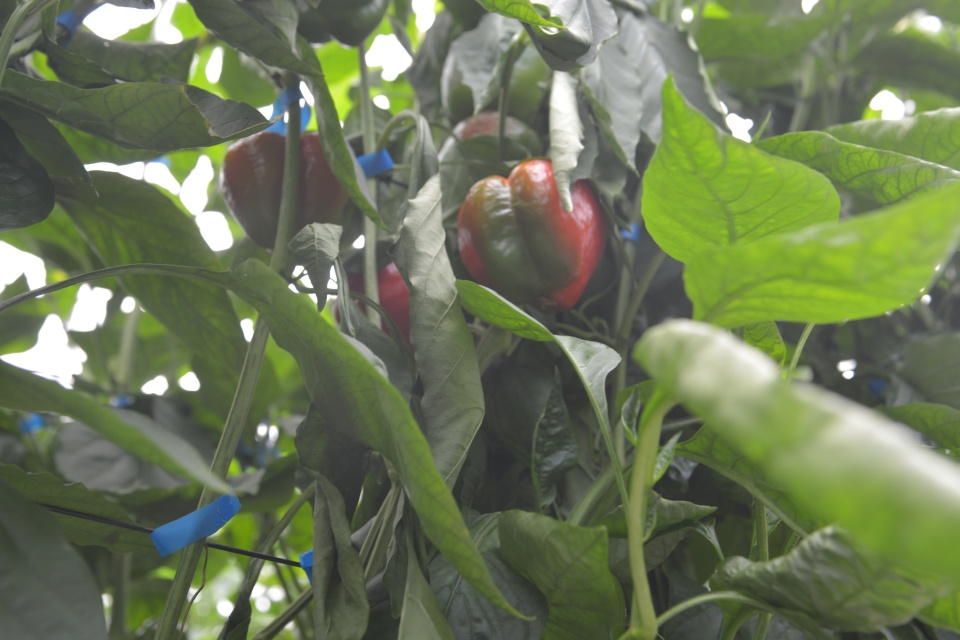fruit: (456, 156, 609, 315), (217, 128, 350, 252), (332, 260, 415, 360)
